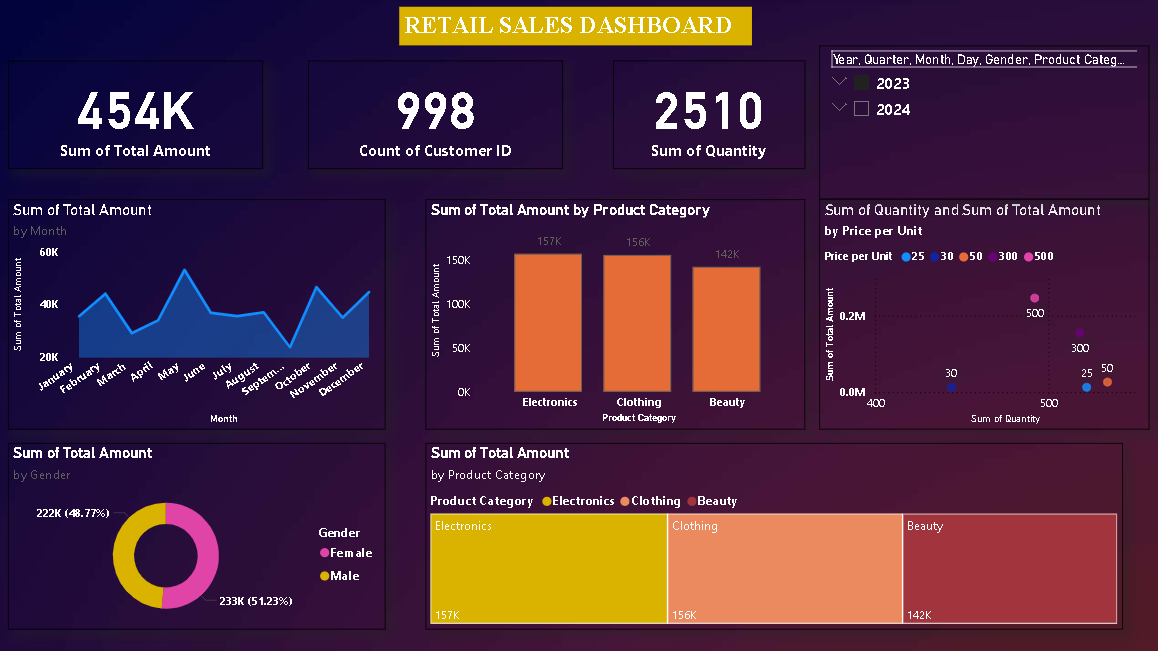

Layout of this report page (visuals, bound fields, positions):
{"tool":"powerbi","page":{"name":"Page 1","canvas":[1280,720],"ordinal":0},"visuals":[{"type":"card","fields":{"Values":["Sum(retail_sales_dataset.Total Amount)"]},"box":[16.5,68.6,279.9,119.4],"z":0},{"type":"textbox","box":[446,9.6,387,42.5],"z":1000},{"type":"card","fields":{"Values":["Count(retail_sales_dataset.Customer ID)"]},"box":[345.8,68.6,279.9,119.4],"z":2000},{"type":"card","fields":{"Values":["Sum(retail_sales_dataset.Quantity)"]},"box":[680.6,68.6,211.3,119.4],"z":3000},{"type":"lineChart","fields":{"Category":["retail_sales_dataset.Date.Variation.Date Hierarchy.Month"],"Y":["Sum(retail_sales_dataset.Total Amount)"]},"box":[16.5,220.9,414.4,252.5],"z":4000},{"type":"clusteredColumnChart","fields":{"Category":["retail_sales_dataset.Product Category"],"Y":["Sum(retail_sales_dataset.Total Amount)"]},"box":[474.8,220.9,417.2,252.5],"z":5000},{"type":"donutChart","fields":{"Category":["retail_sales_dataset.Gender"],"Y":["Sum(retail_sales_dataset.Total Amount)"]},"box":[16.5,488.5,414.4,204.5],"z":6000},{"type":"treemap","fields":{"Group":["retail_sales_dataset.Product Category"],"Values":["Sum(retail_sales_dataset.Total Amount)"]},"box":[474.8,488.5,765.7,204.5],"z":7000},{"type":"scatterChart","fields":{"X":["Sum(retail_sales_dataset.Quantity)"],"Y":["Sum(retail_sales_dataset.Total Amount)"],"Series":["retail_sales_dataset.Price per Unit"]},"box":[907,220.9,362.3,252.5],"z":8000},{"type":"slicer","fields":{"Values":["retail_sales_dataset.Date.Variation.Date Hierarchy.Year","retail_sales_dataset.Date.Variation.Date Hierarchy.Quarter","retail_sales_dataset.Date.Variation.Date Hierarchy.Month","retail_sales_dataset.Date.Variation.Date Hierarchy.Day","retail_sales_dataset.Gender","retail_sales_dataset.Product Category","retail_sales_dataset.Age"]},"box":[907,52.1,362.3,168.8],"z":9000}]}

Visuals, with their boxes in screenshot pixels (x1, y1, x2, y2), scaled from the page's 1280x720 canvas onto the 1158x651 screenshot:
card - Sum(retail_sales_dataset.Total Amount): 15/62/268/170
textbox: 403/9/754/47
card - Count(retail_sales_dataset.Customer ID): 313/62/566/170
card - Sum(retail_sales_dataset.Quantity): 616/62/807/170
lineChart - retail_sales_dataset.Date.Variation.Date Hierarchy.Month x Sum(retail_sales_dataset.Total Amount): 15/200/390/428
clusteredColumnChart - retail_sales_dataset.Product Category x Sum(retail_sales_dataset.Total Amount): 430/200/807/428
donutChart - retail_sales_dataset.Gender x Sum(retail_sales_dataset.Total Amount): 15/442/390/627
treemap - retail_sales_dataset.Product Category x Sum(retail_sales_dataset.Total Amount): 430/442/1122/627
scatterChart - Sum(retail_sales_dataset.Quantity) x Sum(retail_sales_dataset.Total Amount): 821/200/1148/428
slicer - retail_sales_dataset.Date.Variation.Date Hierarchy.Year x retail_sales_dataset.Date.Variation.Date Hierarchy.Quarter: 821/47/1148/200
